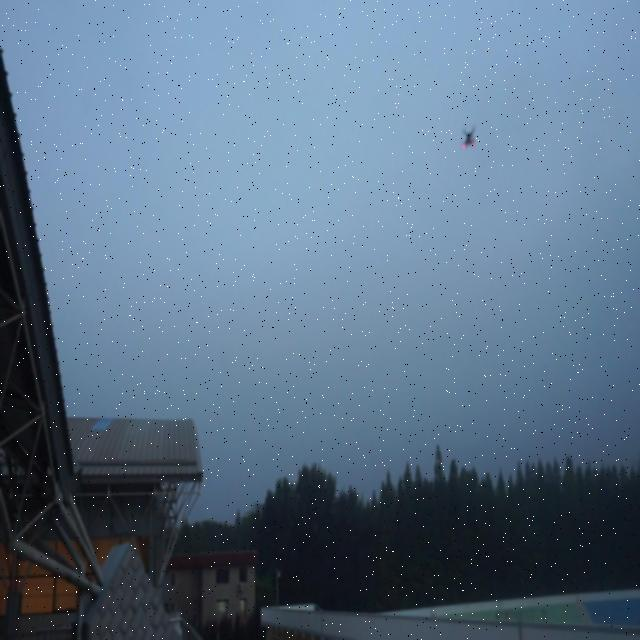UAV: (462, 127, 475, 149)
